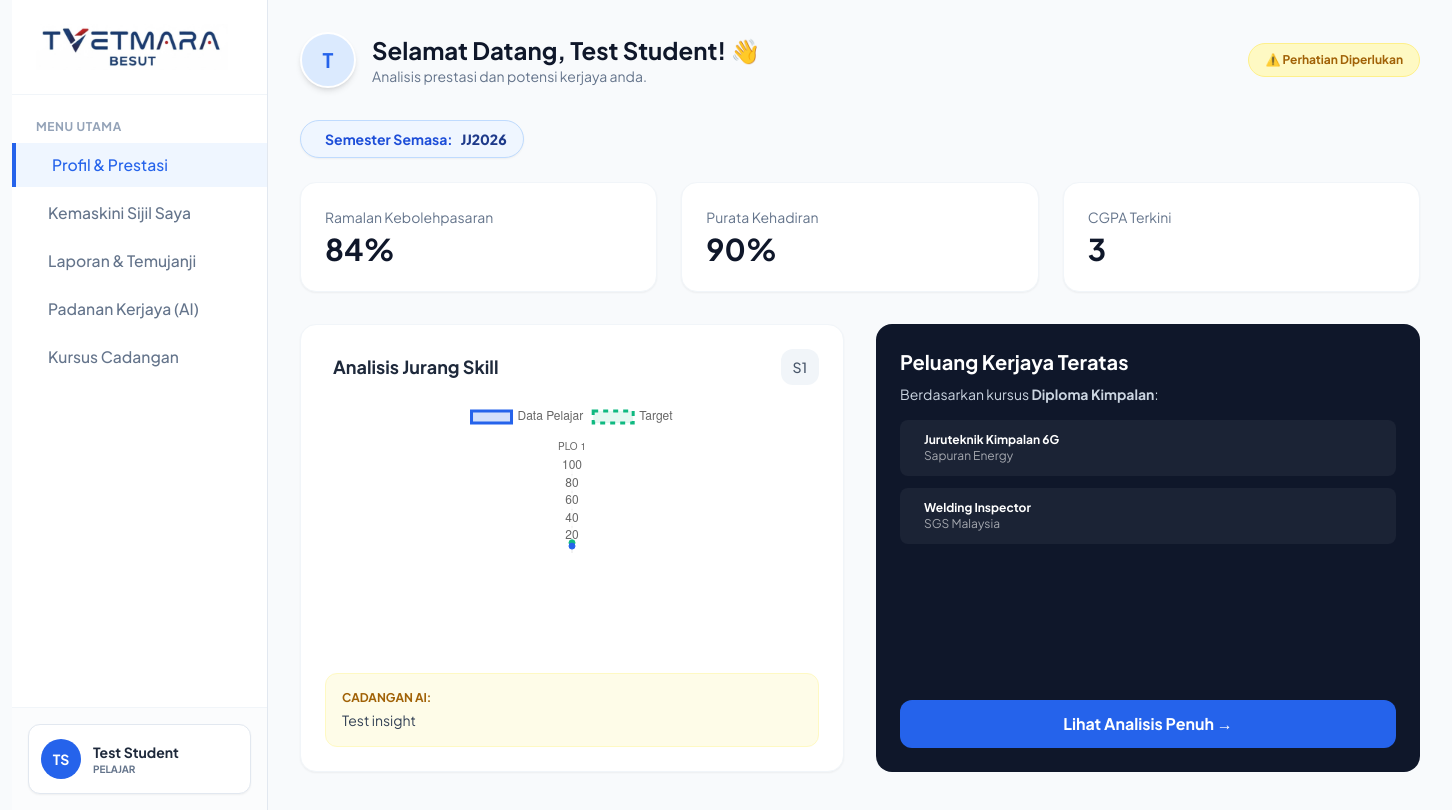
Test: career tab › does not keep showing a spinner after a network failure
Expected: the text "Test insight" is shown, top-left (342, 711), bottom-right (416, 729)
Click the button "Padanan Kerjaya (AI)".
click(140, 309)  # box top-left (12, 287), bottom-right (267, 331)
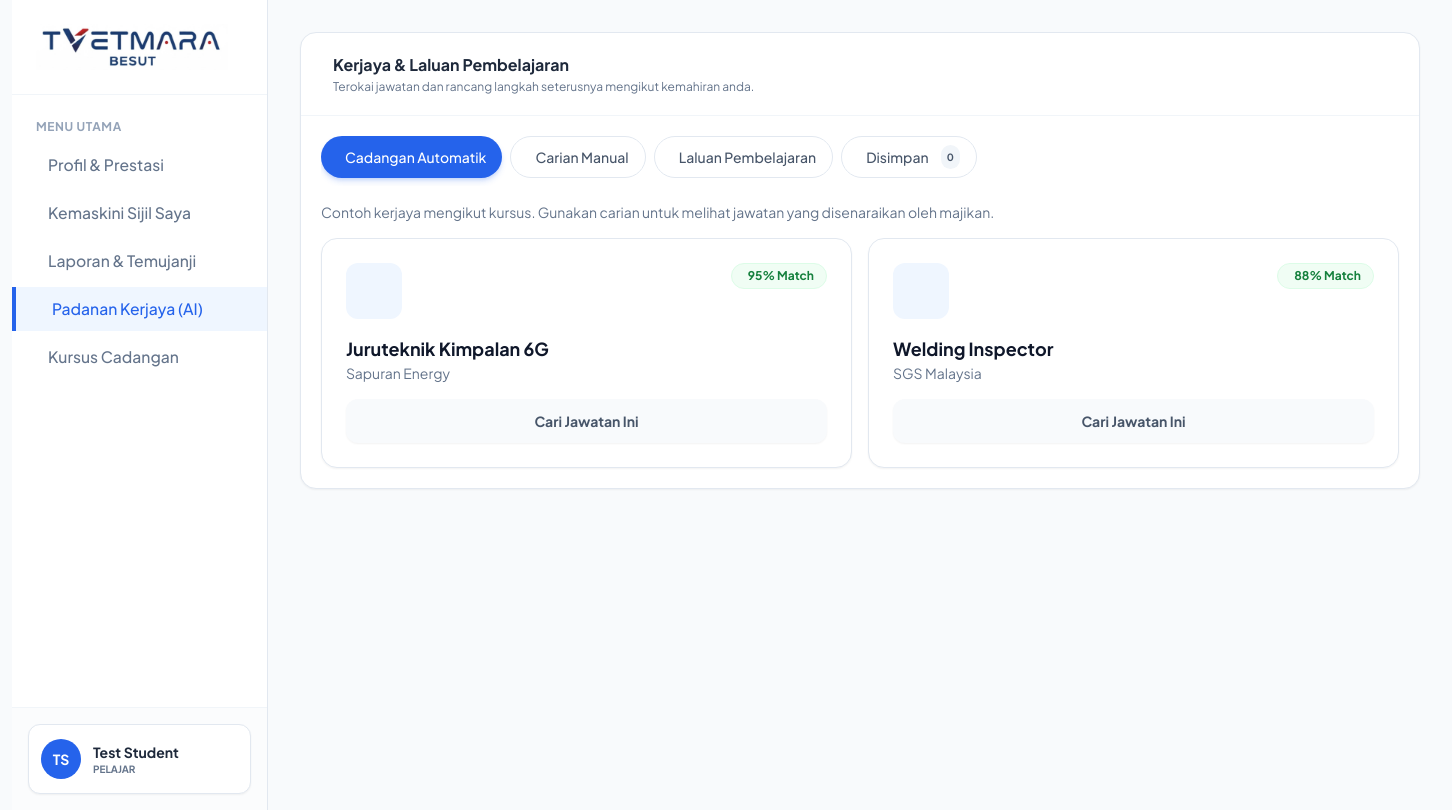
Click the button "Laluan Pembelajaran".
click(743, 157)  # box top-left (654, 136), bottom-right (833, 178)
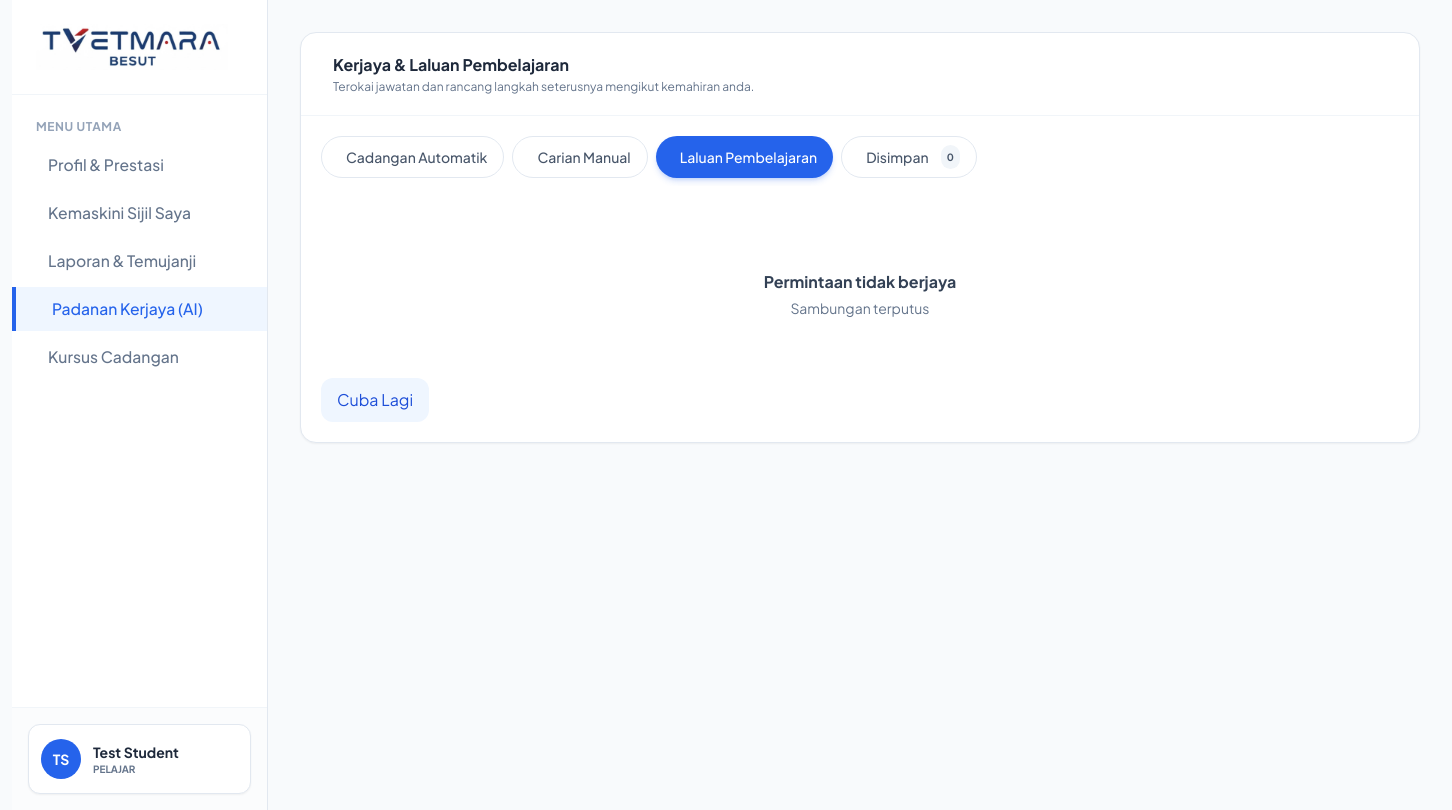
Now the text "Sambungan terputus" is shown, box top-left (790, 298), bottom-right (930, 318)
Now the button "Cuba Lagi" is enabled, box top-left (321, 378), bottom-right (429, 422)
